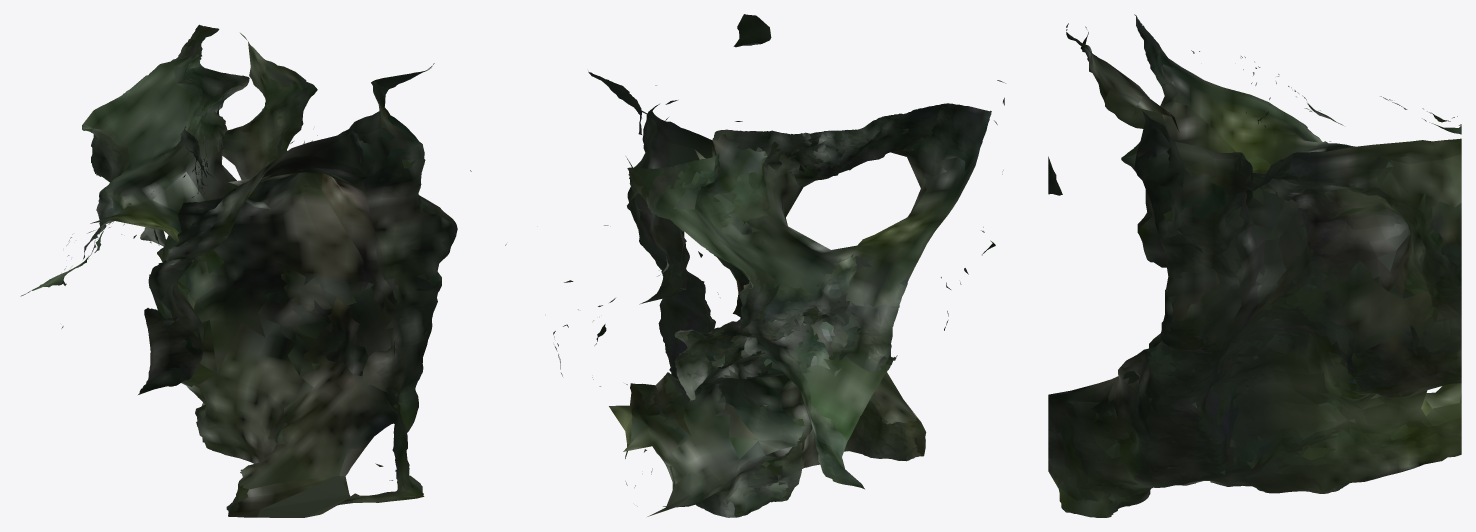
The picture shows the model from 3 angles, left to right: view 1: azimuth 30°, elevation 25°; view 2: azimuth 150°, elevation 25°; view 3: azimuth 270°, elevation 25°; orthographic projection. The views are drawn at different scales.
Size of the model in its own units: 0.4896 by 0.4915 by 0.4915.
1 material, 1 textured.
